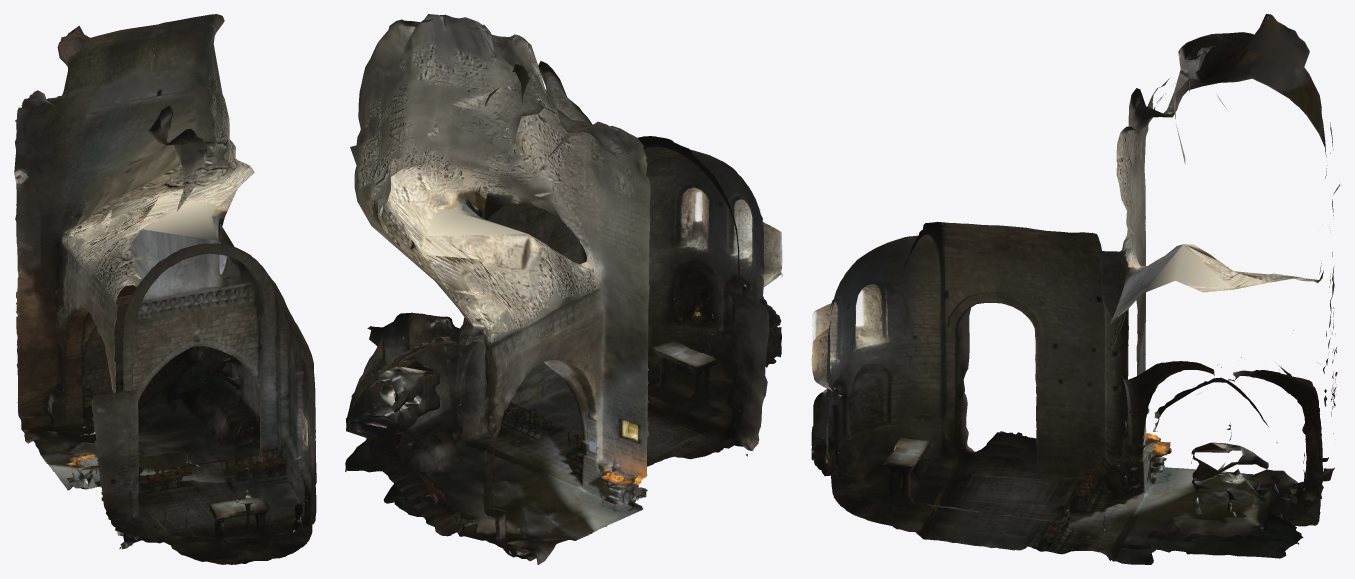
The picture shows the model from 3 angles, left to right: view 1: azimuth 30°, elevation 25°; view 2: azimuth 150°, elevation 25°; view 3: azimuth 270°, elevation 25°; orthographic projection. The views are drawn at different scales.
Visible parts, largest first — view 1: high.012; view 2: high.012; view 3: high.012.
Part boxes in pixels (<box>): high.012: <box>14,14,316,564</box>; high.012: <box>345,14,782,564</box>; high.012: <box>811,14,1340,564</box>.
Bounding box in the file's own units: 8.52 × 14.27 × 13.62.
Materials: 1 (1 with a texture image).
